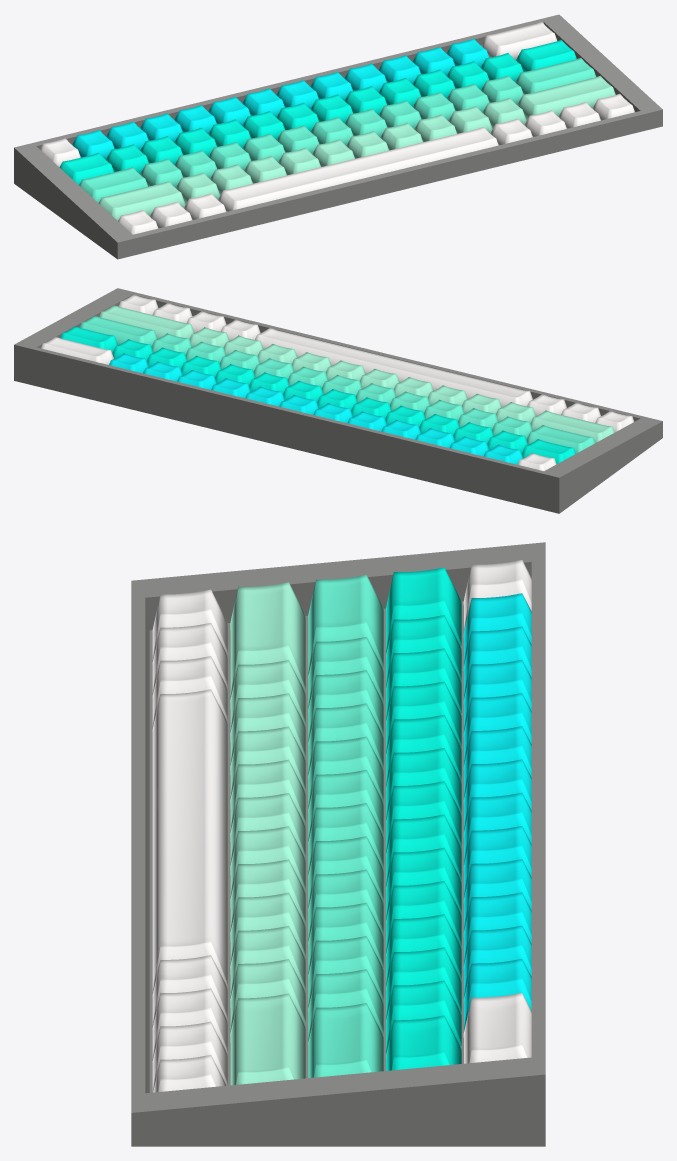
File: northpaw-sable-65-wireless.glb
3 views of the same model, one above another, from view 1: azimuth 30°, elevation 25°; view 2: azimuth 150°, elevation 25°; view 3: azimuth 270°, elevation 25° (orthographic). The views are drawn at different scales.
Parts seen in each view (by area): view 1: Object_6, Object_4; view 2: Object_6, Object_4; view 3: Object_6, Object_4.
Part boxes in pixels (bbox=[...]): Object_6: bbox=[40, 22, 634, 234]; Object_4: bbox=[14, 14, 662, 259]; Object_6: bbox=[41, 294, 634, 470]; Object_4: bbox=[14, 288, 662, 513]; Object_6: bbox=[152, 560, 531, 1092]; Object_4: bbox=[131, 542, 545, 1146].
Bounding box in the file's own units: 16.11 × 1.12 × 5.3.
2 materials, 2 textured.
